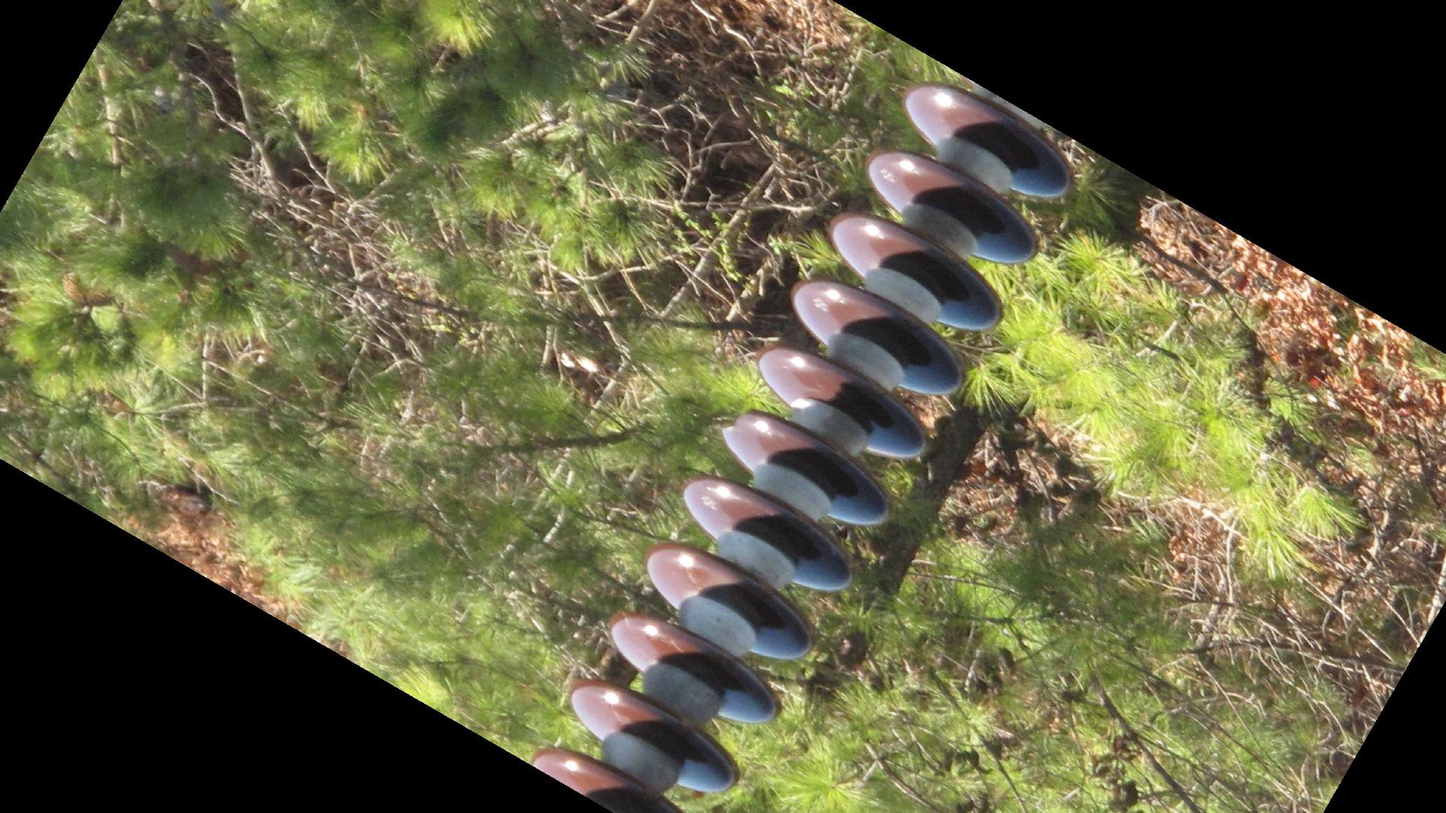insulator: (525, 77, 1078, 813)
insulator_breakage: (714, 402, 760, 448)
